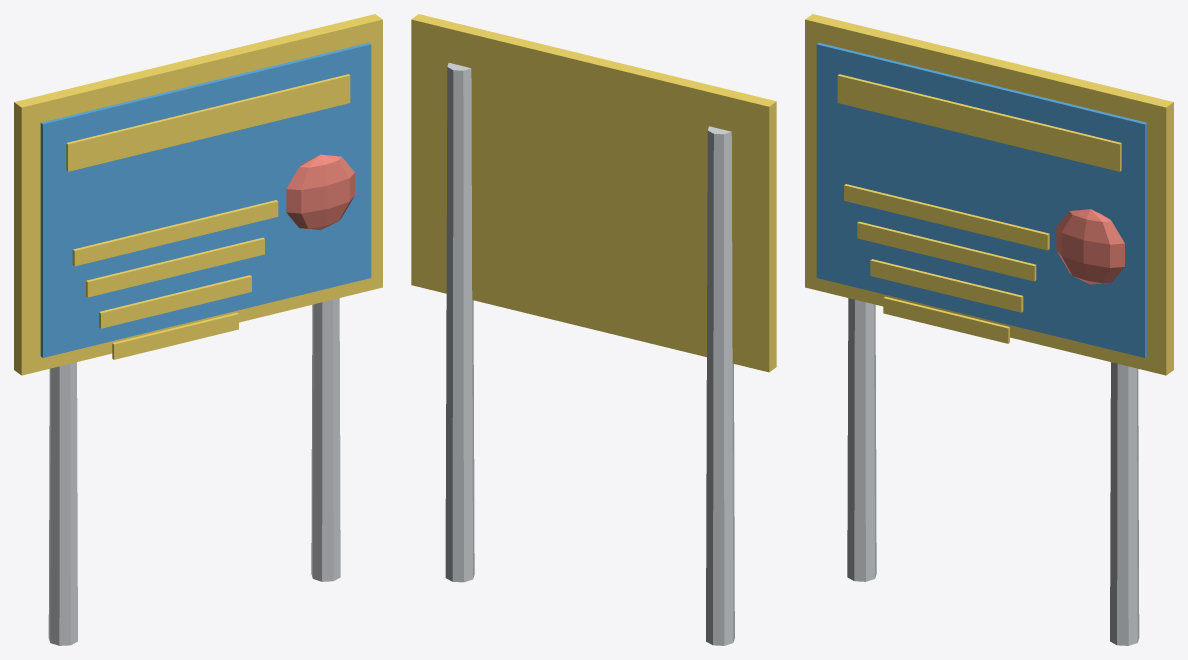
The model's file is 33667-Playground-Rules-Sign-City-Park-and-Playground.glb.
The picture shows the model from 3 angles, left to right: view 1: azimuth 30°, elevation 25°; view 2: azimuth 150°, elevation 25°; view 3: azimuth 330°, elevation 25°; orthographic projection.
Visible parts, largest first — view 1: playground-sign-azure, playground-sign-sunflower, playground-sign-steel, playground-sign-poppy; view 2: playground-sign-sunflower, playground-sign-steel; view 3: playground-sign-azure, playground-sign-sunflower, playground-sign-steel, playground-sign-poppy.
Part boxes in pixels (x1=…): playground-sign-azure: x1=40, y1=42, x2=371, y2=357; playground-sign-sunflower: x1=14, y1=14, x2=382, y2=375; playground-sign-steel: x1=48, y1=298, x2=340, y2=645; playground-sign-poppy: x1=286, y1=154, x2=354, y2=229; playground-sign-sunflower: x1=411, y1=14, x2=776, y2=372; playground-sign-steel: x1=445, y1=63, x2=734, y2=645; playground-sign-azure: x1=816, y1=42, x2=1147, y2=357; playground-sign-sunflower: x1=805, y1=14, x2=1173, y2=375; playground-sign-steel: x1=847, y1=298, x2=1139, y2=645; playground-sign-poppy: x1=1056, y1=209, x2=1124, y2=284.
Bounding box in the file's own units: 1.1 × 1.6 × 0.1516.
